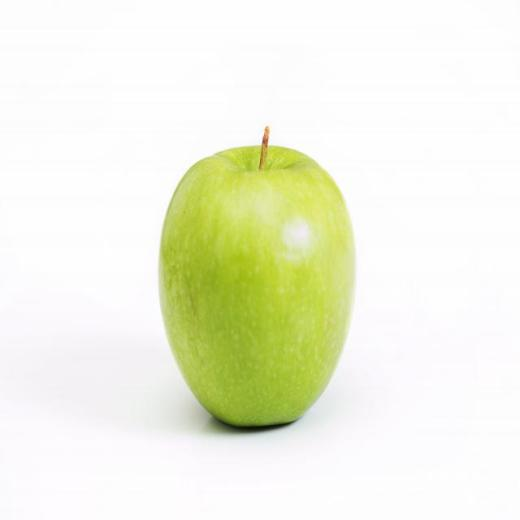Apple: (158, 126, 357, 427)
